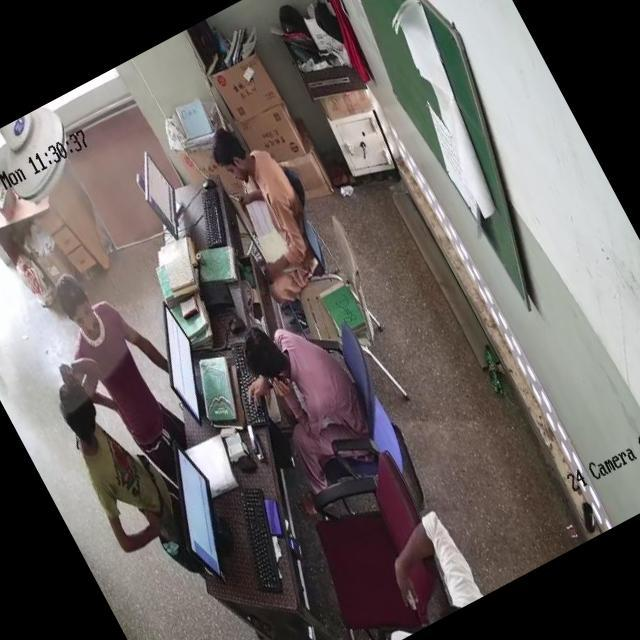person: (240, 296, 395, 469), (50, 264, 182, 451), (198, 105, 329, 289), (50, 367, 182, 546)
